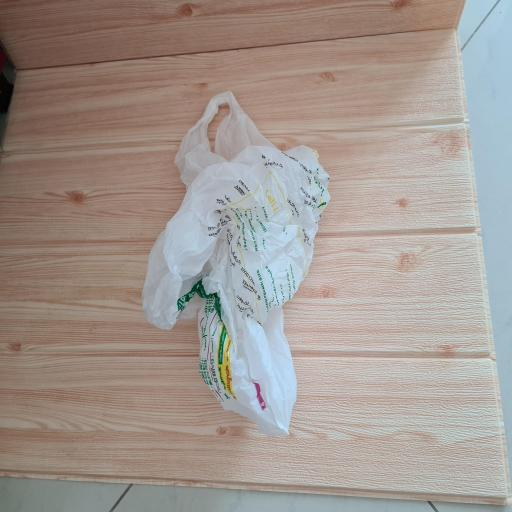plastic bag: (143, 90, 331, 434)
